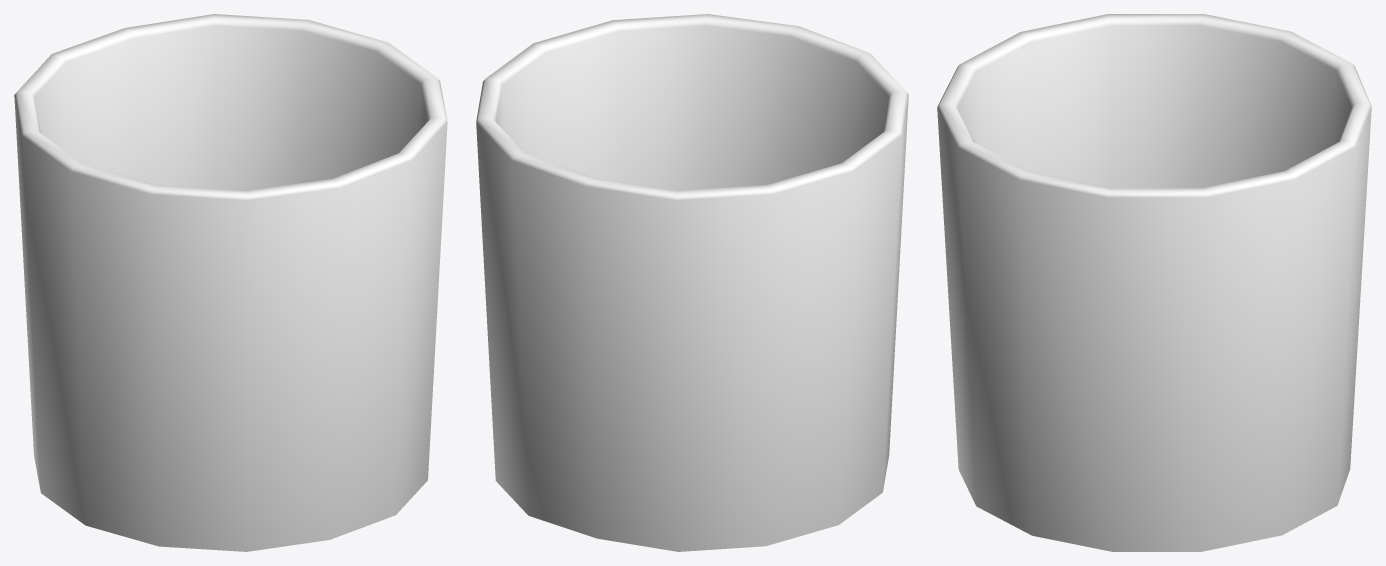
The model's file is WhiskeyGlass.FBX.
3 renders of one model, left to right at view 1: azimuth 30°, elevation 25°; view 2: azimuth 150°, elevation 25°; view 3: azimuth 270°, elevation 25°, orthographic.
Visible parts, largest first — view 1: beerMug001; view 2: beerMug001; view 3: beerMug001.
Part boxes in pixels (x1,y1,x2,y2): beerMug001: [14, 14, 447, 551]; beerMug001: [476, 14, 908, 551]; beerMug001: [937, 14, 1371, 551].
Bounding box in the file's own units: 2.11 × 1.98 × 2.14.
1 material, 1 textured.
